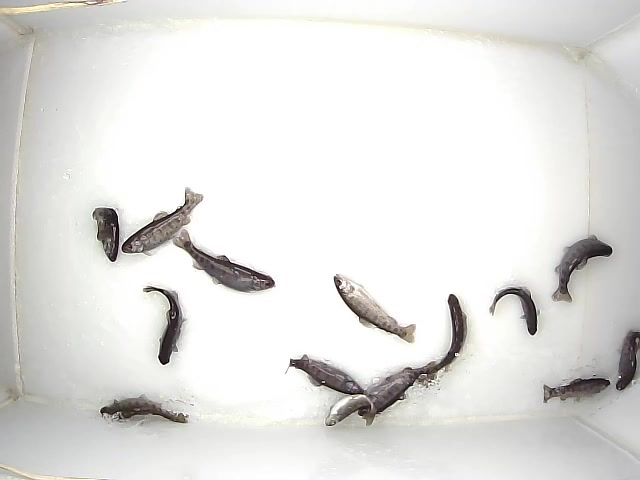fish: (173, 229, 275, 293), (333, 274, 416, 344), (121, 187, 204, 256), (403, 294, 467, 374), (358, 361, 436, 416), (551, 234, 613, 303), (143, 286, 187, 365), (285, 354, 366, 395), (100, 394, 191, 424), (489, 286, 540, 336), (543, 378, 611, 404), (325, 394, 375, 427), (616, 328, 640, 391), (92, 208, 119, 262)
